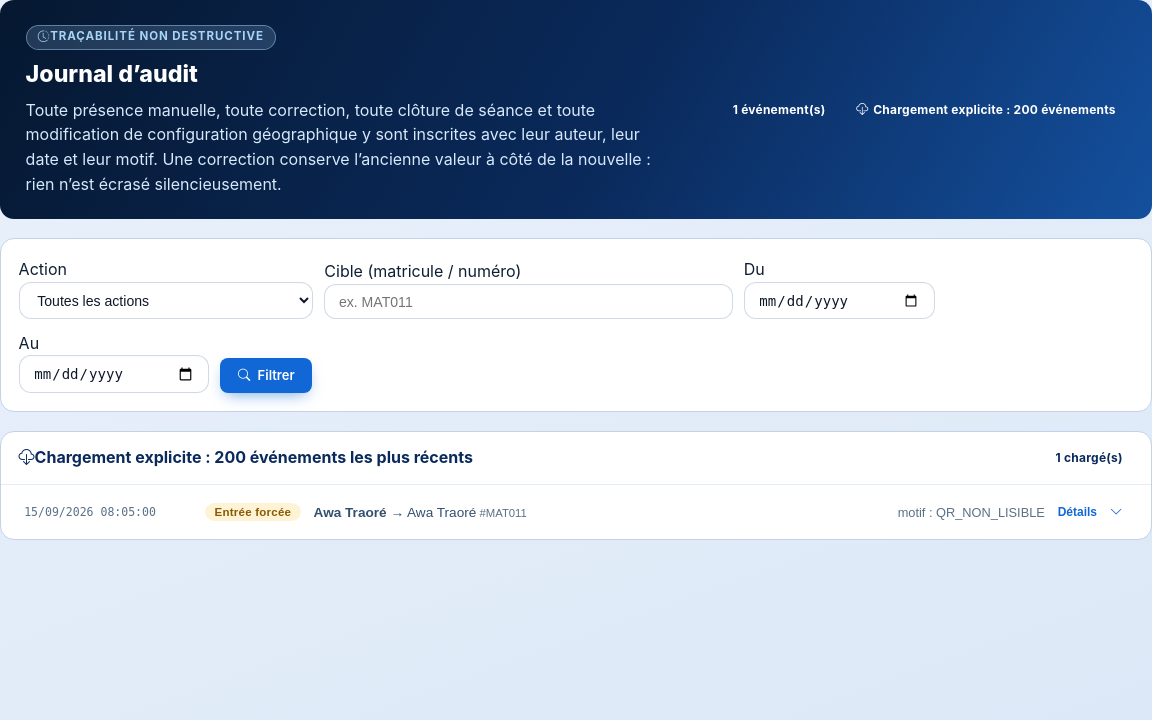
Test case: PresencesAudit — traçabilité non destructive › liste compacte : auteur, entité, motif ; détail déployable avant/après
Expected: the text "Entrée forcée" is shown, [205, 503, 301, 521]
Expected: the text "1 chargé(s)" is shown, [1056, 450, 1123, 465]
Click the button named "Détails" at (90,512), box [19, 496, 1133, 528]
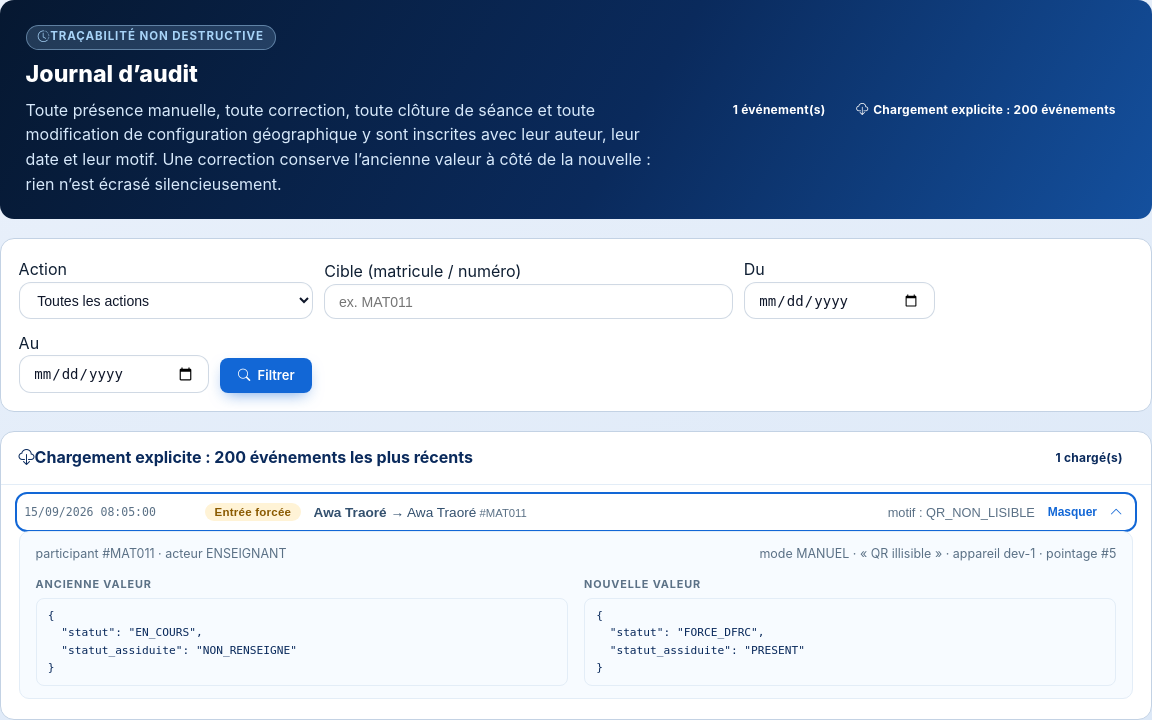
Expected: the text "Ancienne valeur" is shown, [36, 578, 152, 592]
Expected: the text "Nouvelle valeur" is shown, [584, 578, 701, 592]
Expected: the text "{ \"statut\": \"FORCE_DFRC\", \"statut_assiduite\": \"PRESENT\" }" is shown, [584, 598, 1116, 686]
